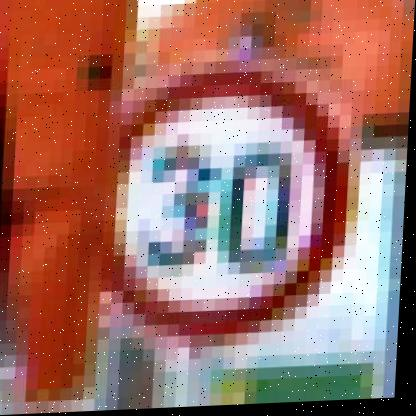Speed Limit -30-: (94, 56, 371, 353)
